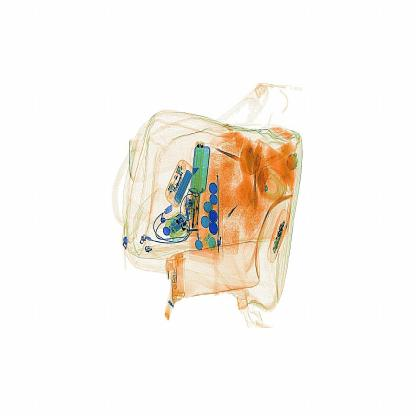wrench: (220, 199, 245, 225)
